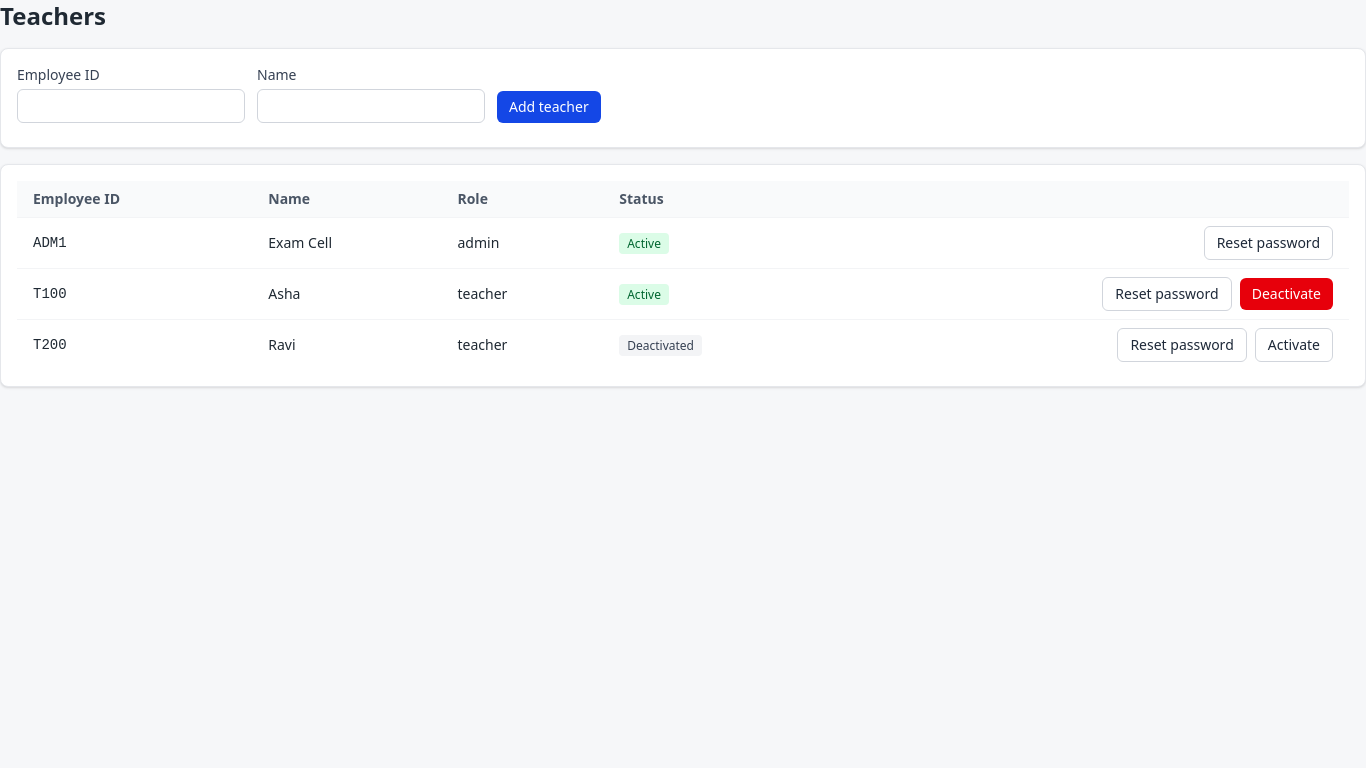
Teachers › shows a new teacher's one-time password once
The width and height of the screenshot is (1366, 768).
In the field labelled "Employee ID": [131, 106] box [17, 89, 245, 123], type "T300"
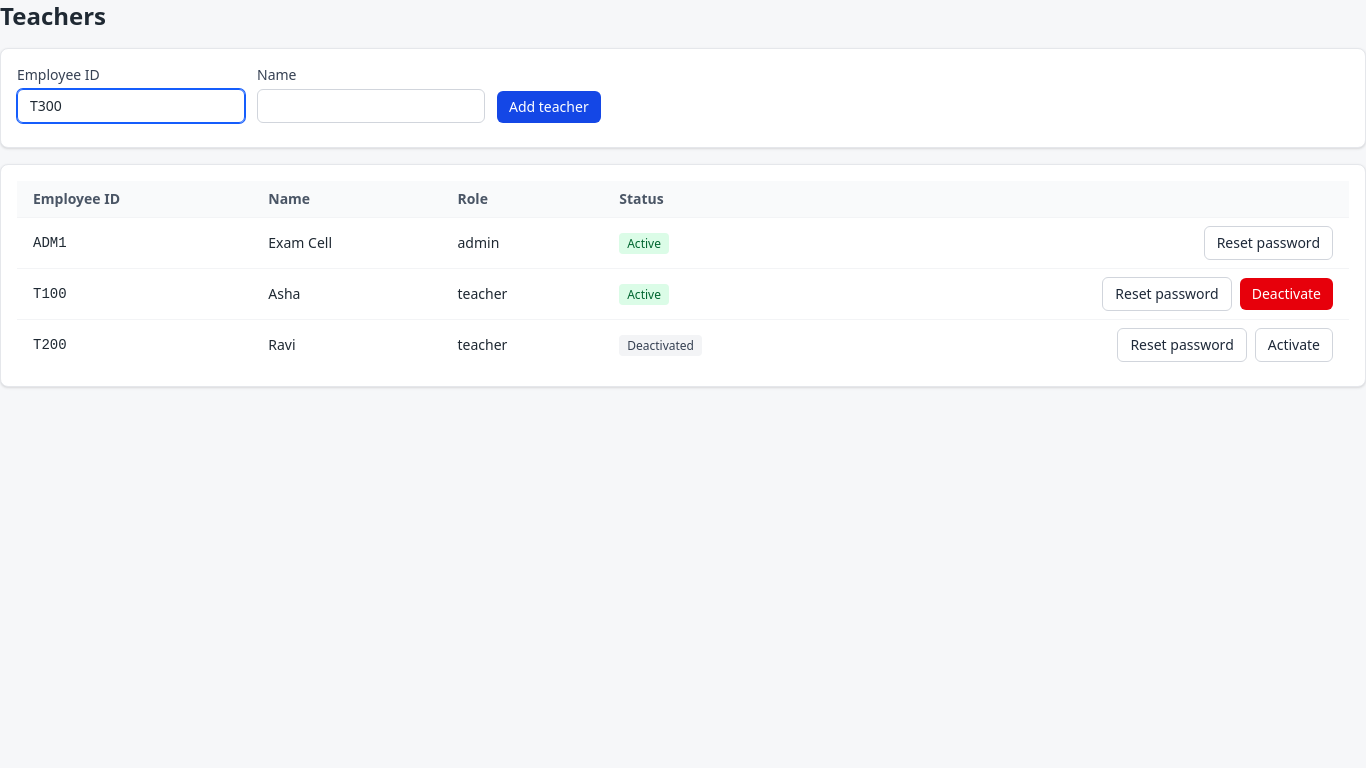
In the field labelled "Name": [371, 106] box [257, 89, 485, 123], type "Meena"
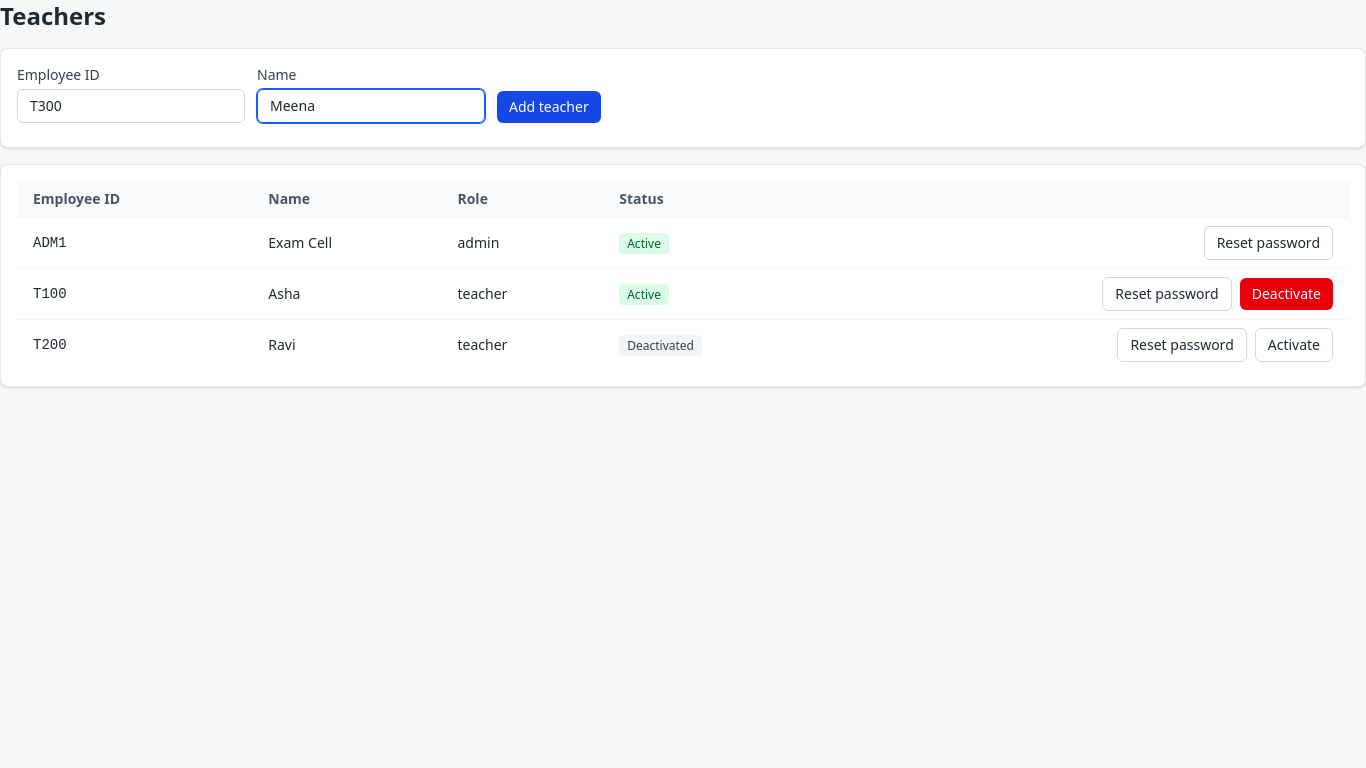
Click the button "Add teacher": [549, 107] box [497, 91, 601, 123]
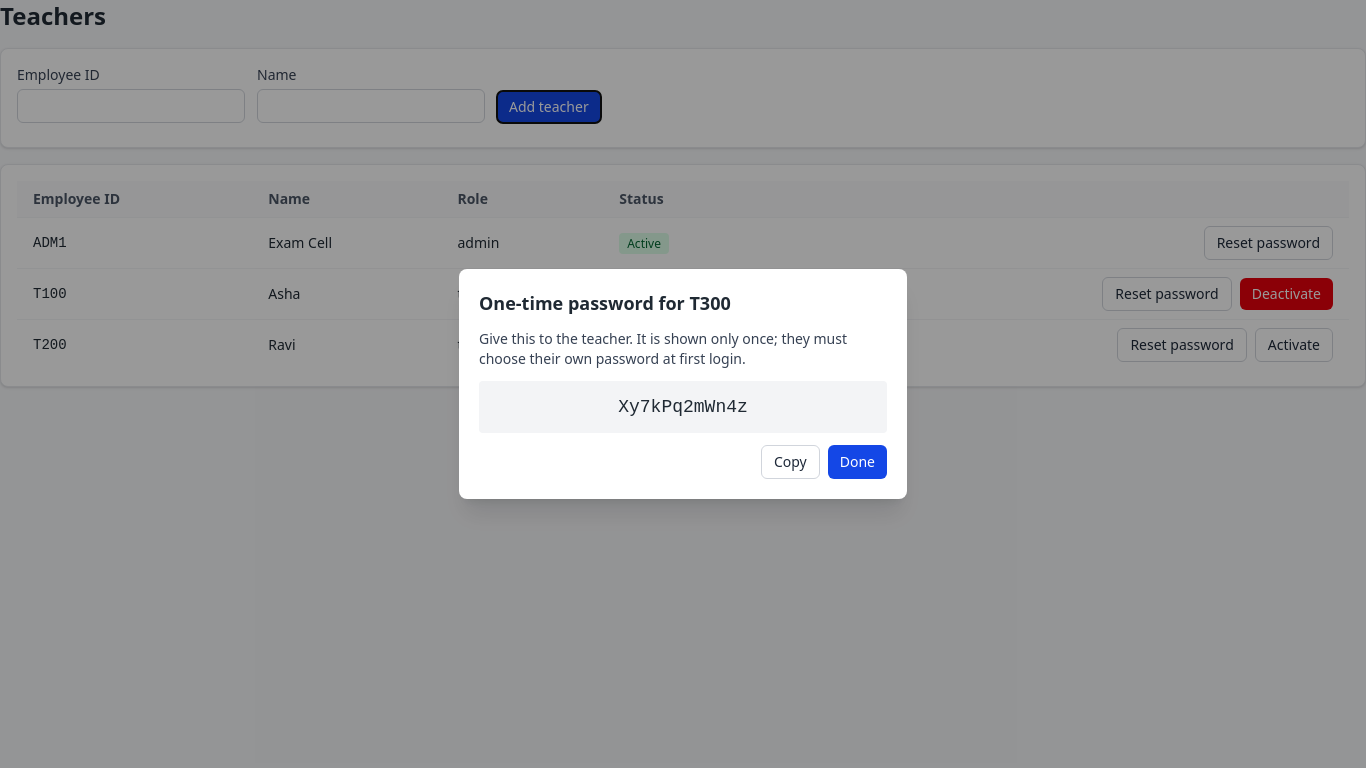
expect the text with test id "one-time-password" reads "Xy7kPq2mWn4z": met, box [618, 397, 748, 417]
Click the button "Done": [857, 462] box [828, 445, 887, 479]
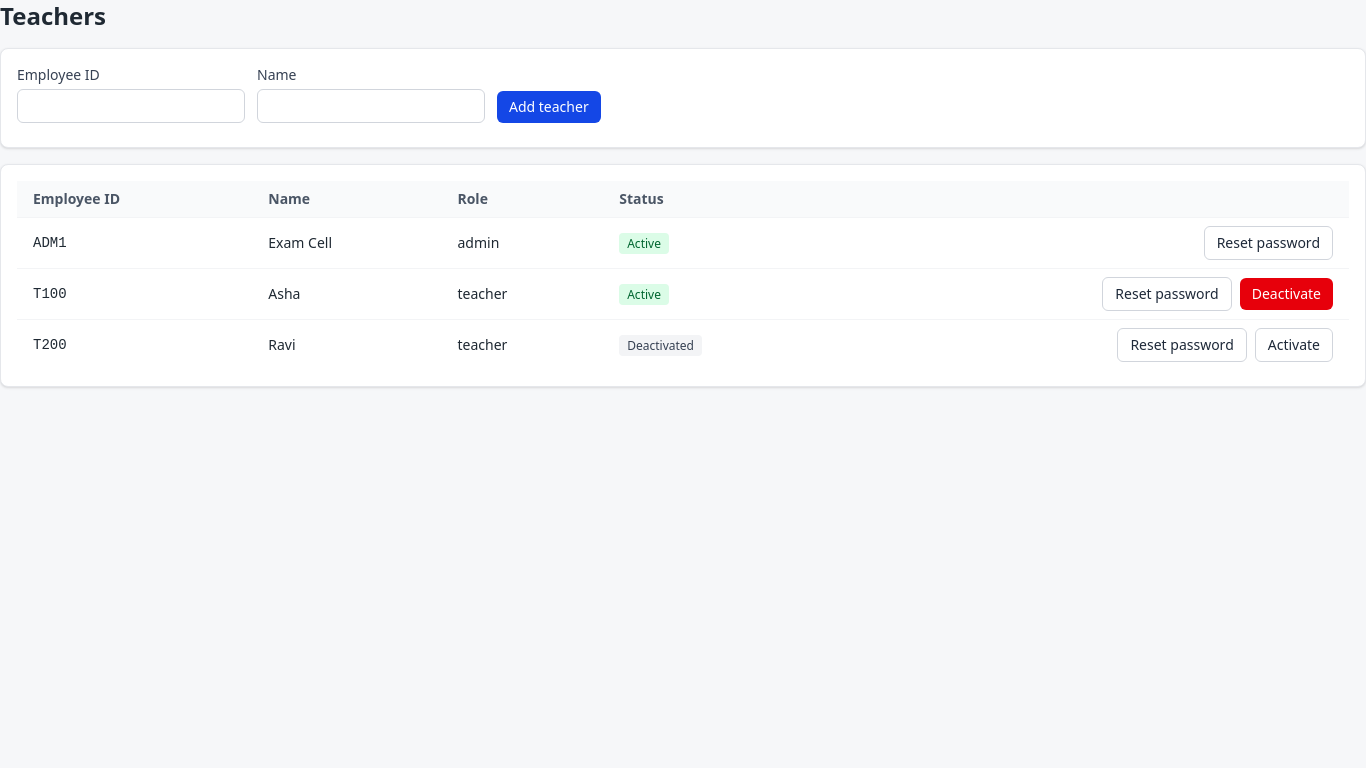
expect the text with test id "one-time-password" is gone: met
